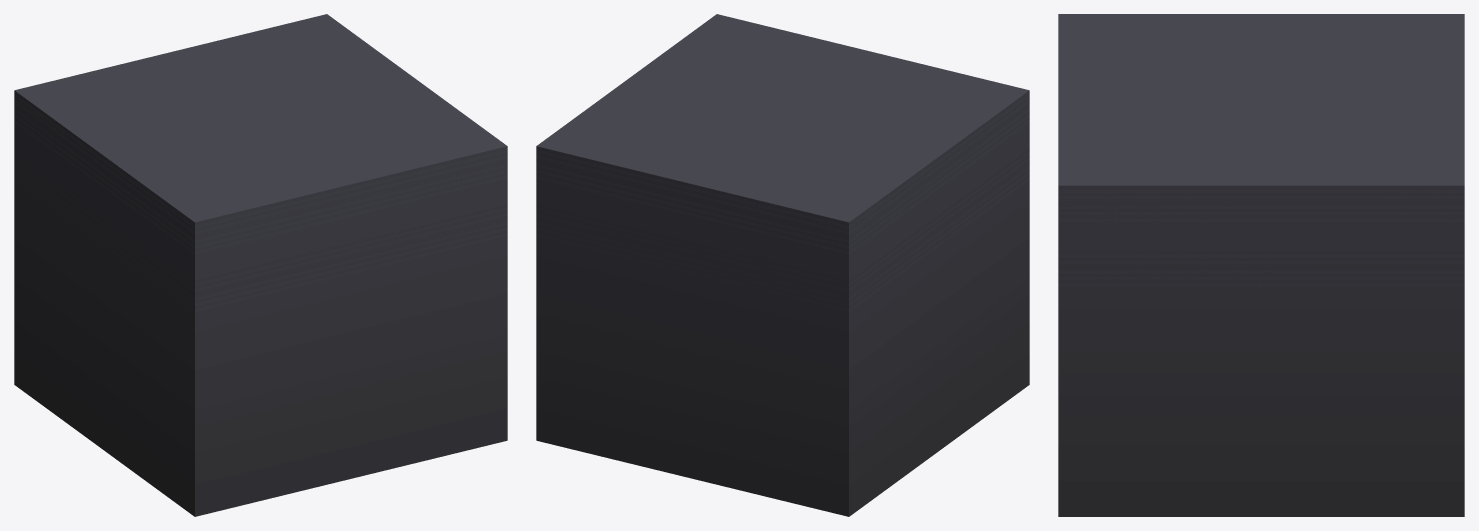
The model's file is wall_soil.glb.
The picture shows the model from 3 angles, left to right: view 1: azimuth 30°, elevation 25°; view 2: azimuth 150°, elevation 25°; view 3: azimuth 270°, elevation 25°; orthographic projection. The views are drawn at different scales.
Visible parts, largest first — view 1: dirt; view 2: dirt; view 3: dirt.
Boxes of the visible parts, x1,y1,x2,y2 form: dirt: (14,14,507,516); dirt: (536,14,1029,516); dirt: (1058,14,1464,516).
Size of the model in its own units: 1 by 0.9 by 1.
Materials: 1 (1 with a texture image).
